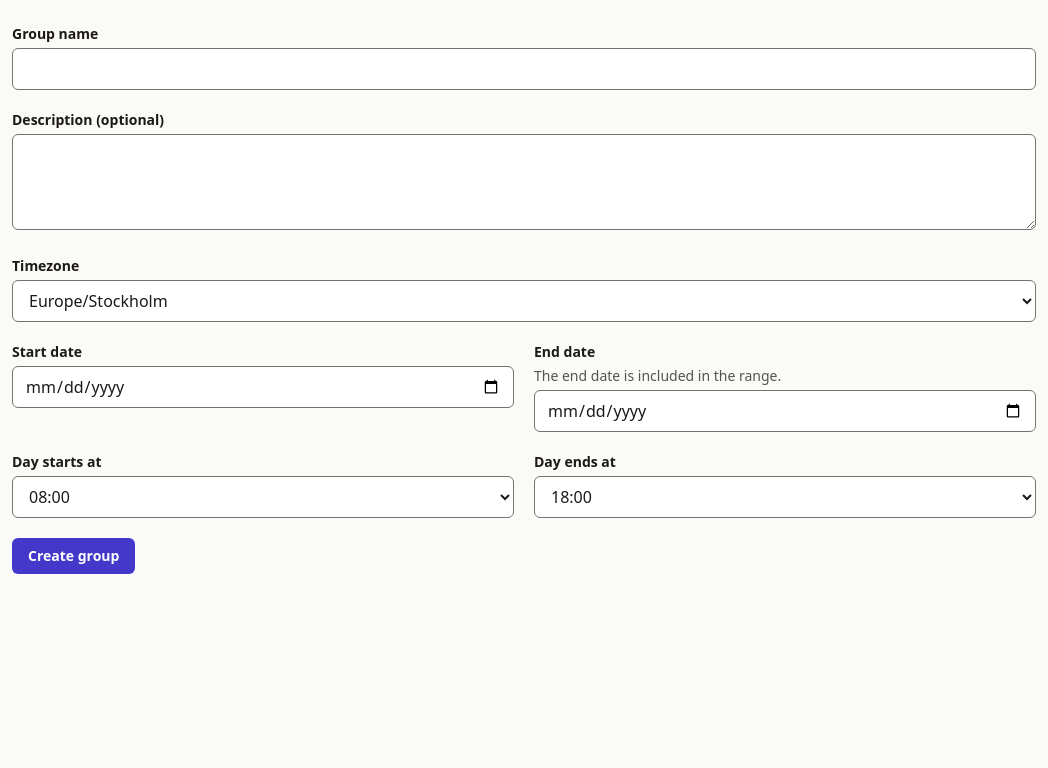
it: CreateGroupForm › asks an unauthenticated caller to sign in, without a retry button
Type "Algorithms study group" into the field labelled "Group name".
click(524, 69); type("Algorithms study group")  # box [12, 48, 1036, 90]
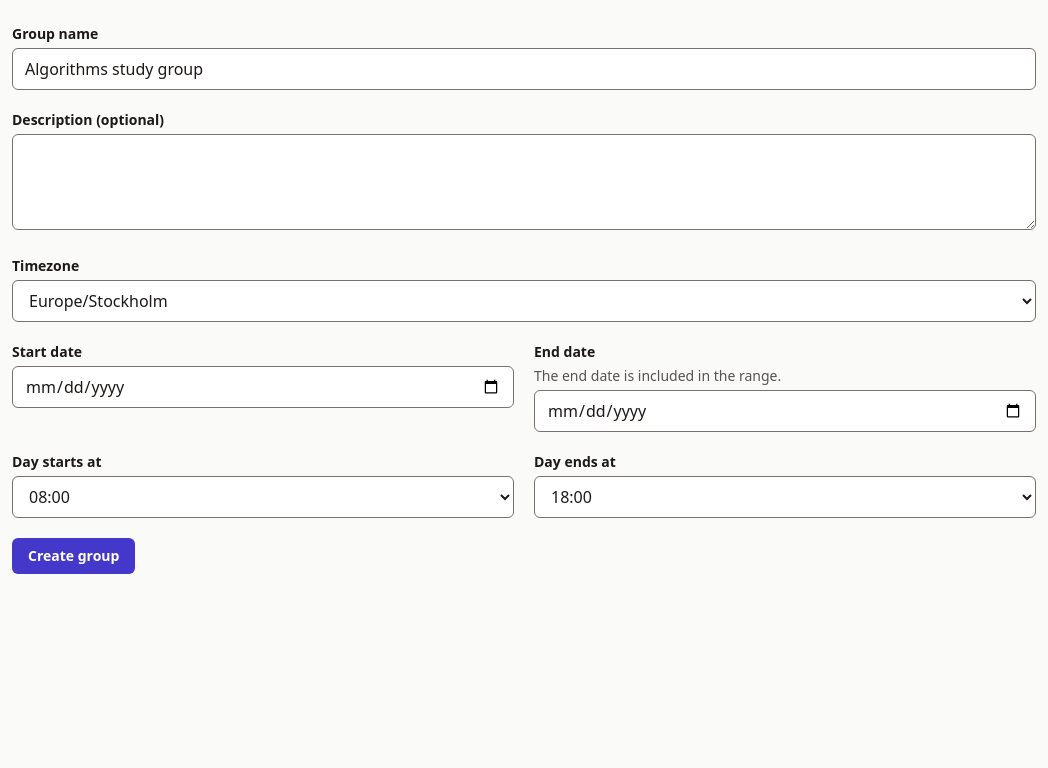
Type "2026-10-01" into the date field labelled "Start date".
click(263, 387); type("2026-10-01")  # box [12, 366, 514, 408]
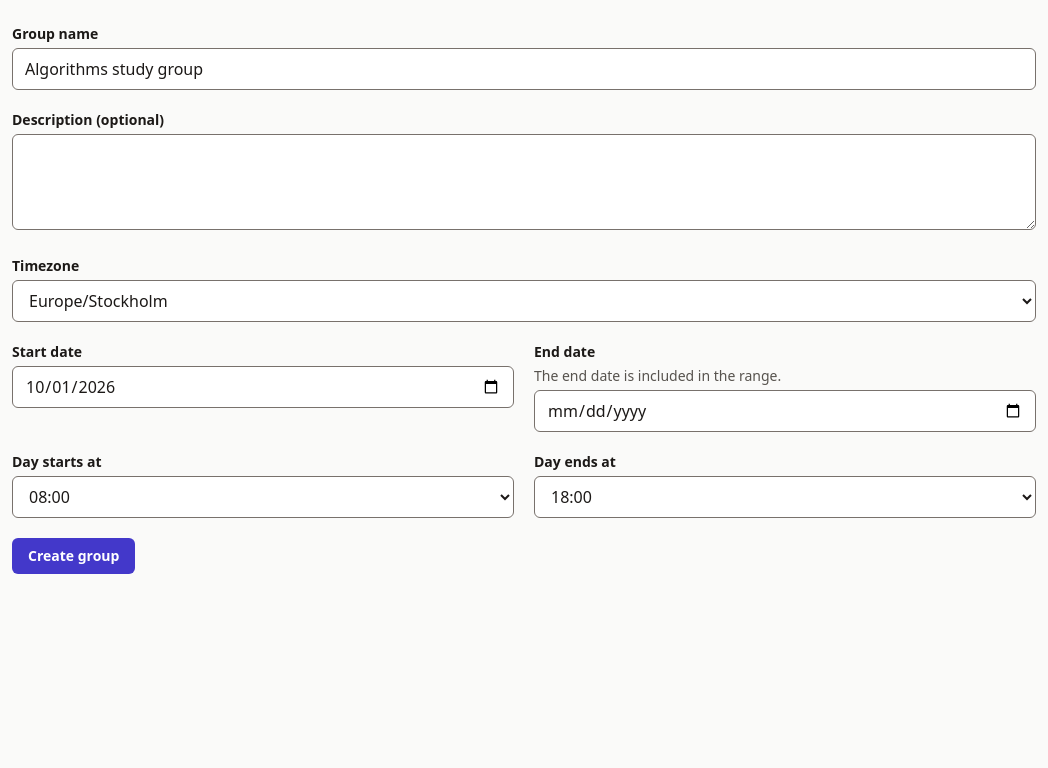
Type "2026-10-05" into the date field labelled "End date".
click(785, 411); type("2026-10-05")  # box [534, 390, 1036, 432]
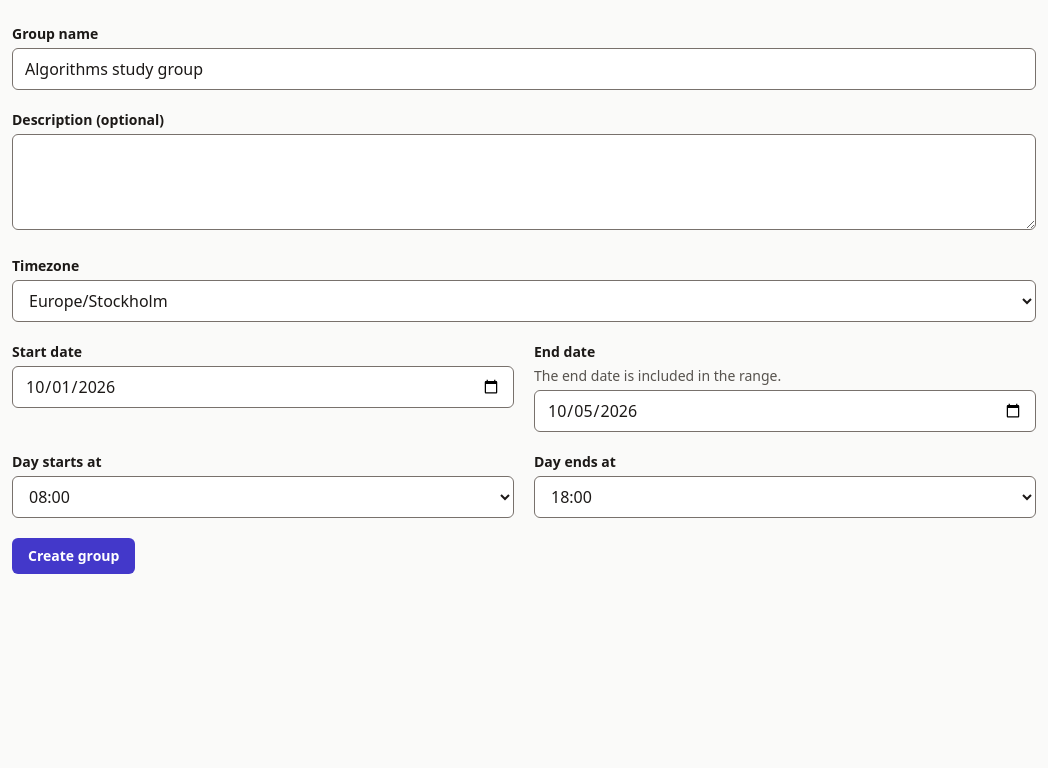
Click the button "Create group".
click(74, 556)  # box [12, 538, 135, 574]
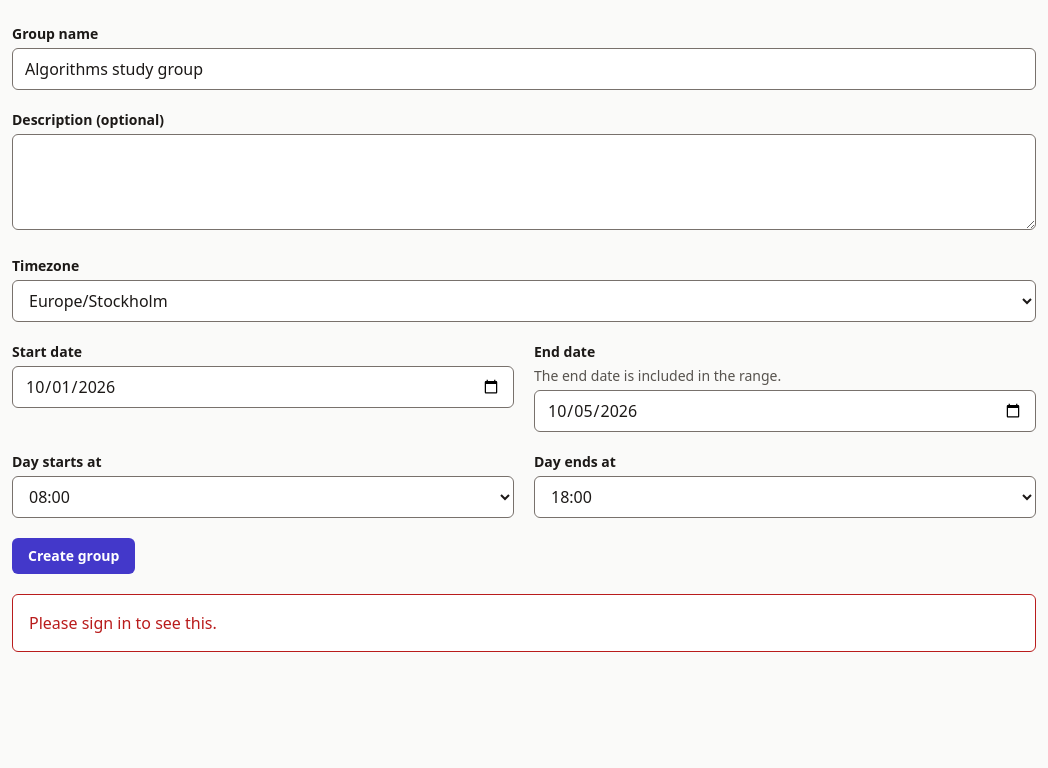
Now the text "Please sign in to see this." is shown, box [29, 612, 217, 634]
